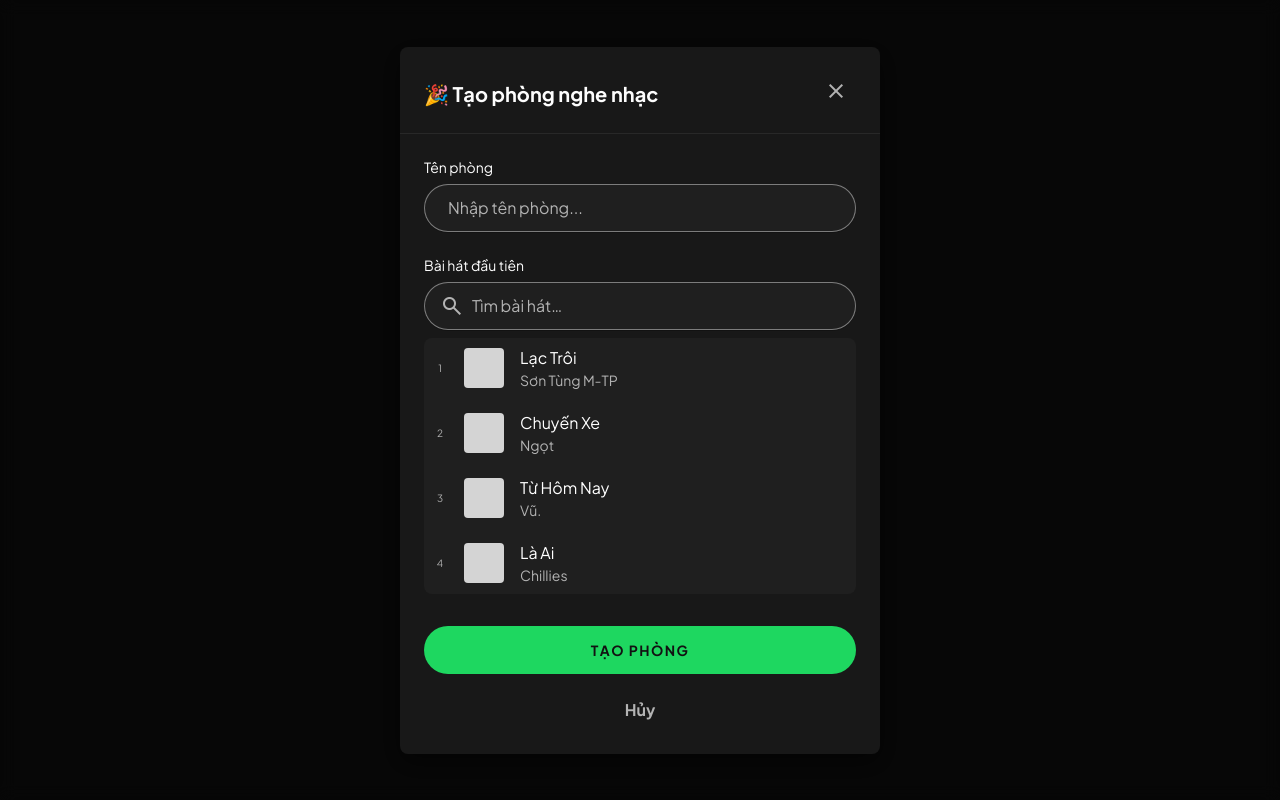
CreateRoomModal › Song search › resets to recommendations when query is cleared
Check: the text "Lạc Trôi" is shown, box 520,346 -> 577,368
Type "Bài" into the field labelled "Tìm bài hát…" at coordinates (640, 306), box 424,282 -> 856,330
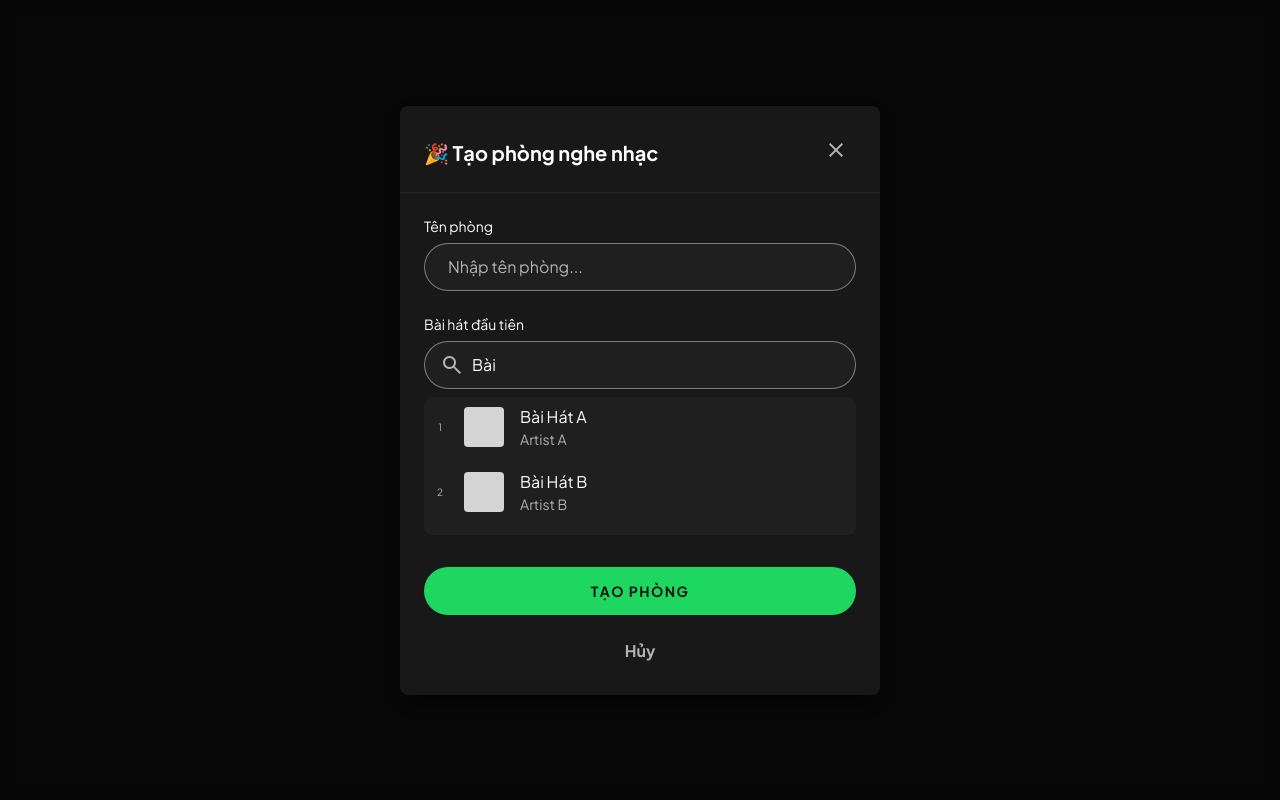
Check: the text "Bài Hát A" is shown, box 520,406 -> 587,426
Clear the field named "Tìm bài hát" at coordinates (640, 364), box 424,340 -> 856,388
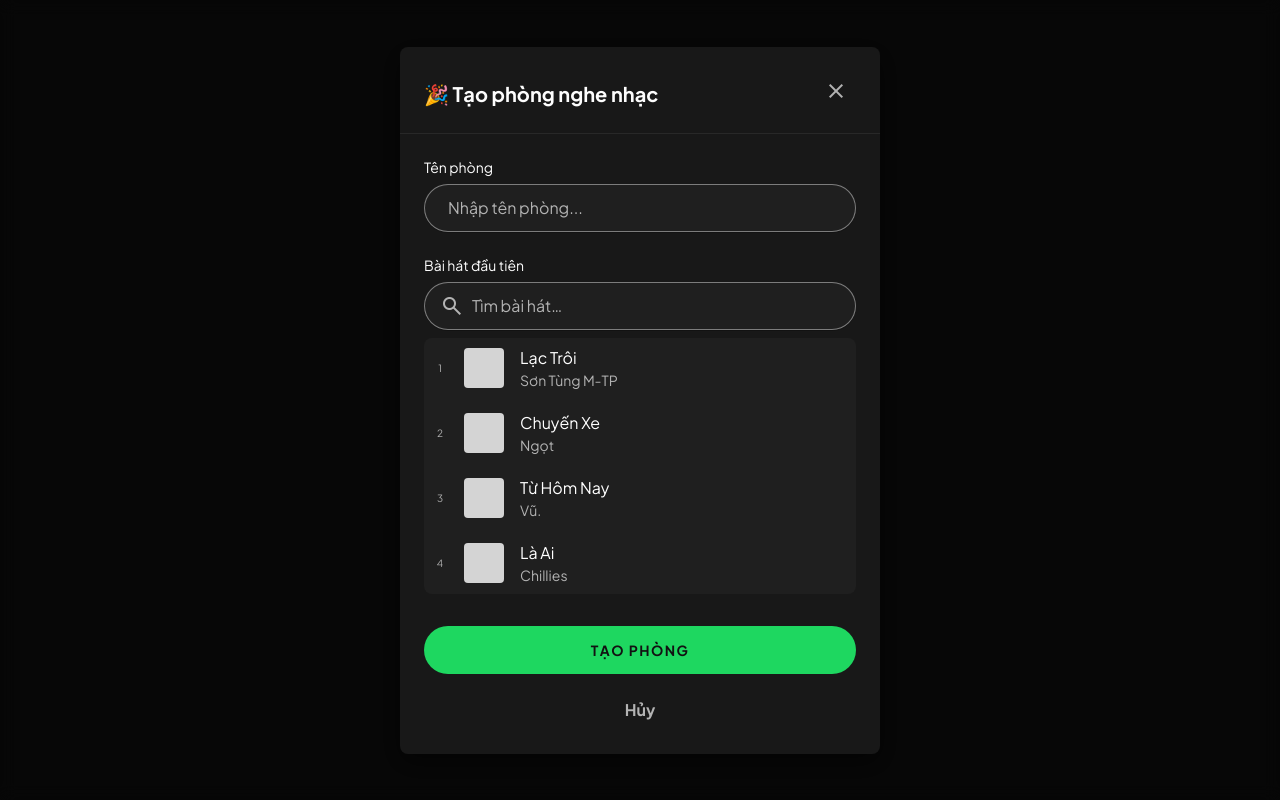
Check: the text "Lạc Trôi" is shown, box 520,346 -> 577,368
